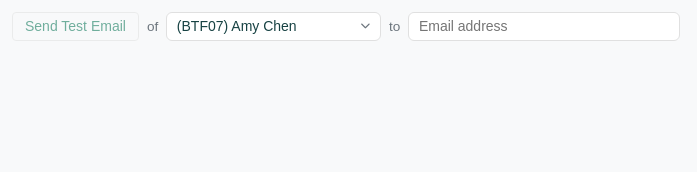
it: Send Test Email › sends the chosen person's email to the typed address, with the page's unsaved details
The width and height of the screenshot is (697, 172).
Press the mouse on the element with class "test-email__select" at [274, 26], box x1=166 y1=12 x2=381 y2=41
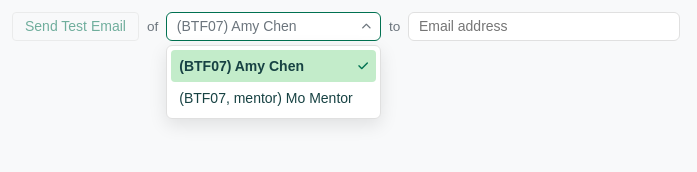
Press the mouse on the option "(BTF07, mentor) Mo Mentor" at [266, 98], box x1=179 y1=90 x2=353 y2=106
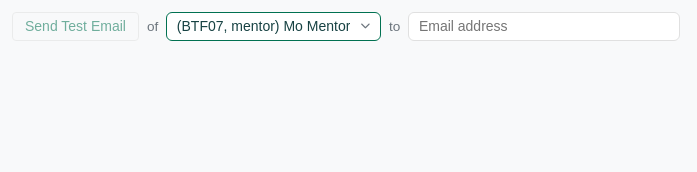
Type " me@example.com " into the field with class "test-email__to" at [544, 26], box x1=408 y1=12 x2=680 y2=41
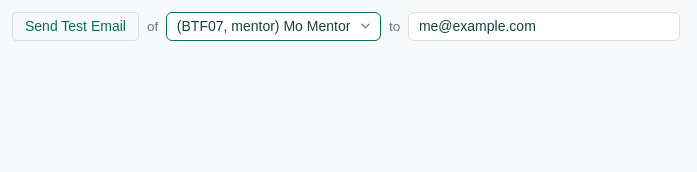
Click the button "Send Test Email" at [75, 26], box x1=12 y1=12 x2=139 y2=41
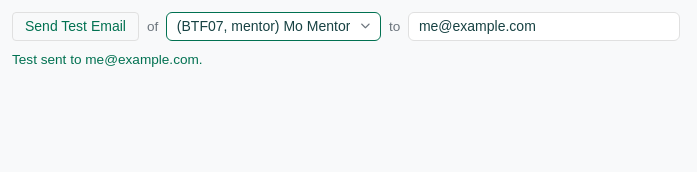
Expected: the message with class "test-email__result" reads "Test sent to me@example.com.", x1=12 y1=52 x2=203 y2=67
